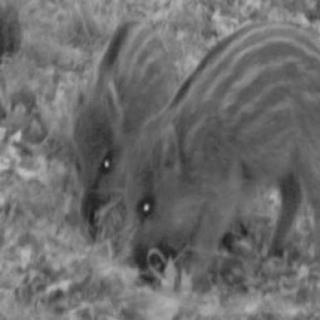Pig: (126, 48, 320, 283), (51, 0, 128, 215)
